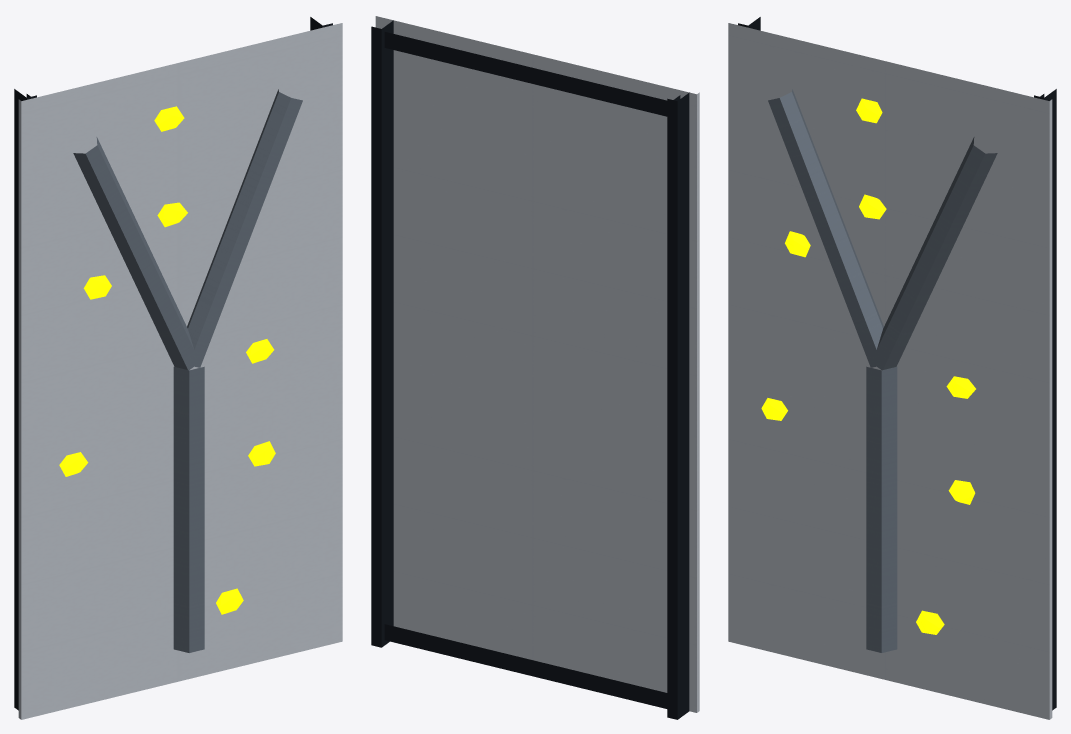
The picture shows the model from 3 angles, left to right: view 1: azimuth 30°, elevation 25°; view 2: azimuth 150°, elevation 25°; view 3: azimuth 330°, elevation 25°; orthographic projection.
Visible parts, largest first — view 1: Face_Sheet, Branch_Volume, Holds, Sub_Frame; view 2: Face_Sheet, Sub_Frame; view 3: Face_Sheet, Branch_Volume, Holds, Sub_Frame.
Boxes of the visible parts, x1,y1,x2,y2 form: Face_Sheet: (18,23,342,719); Branch_Volume: (73,89,302,652); Holds: (59,106,275,614); Sub_Frame: (14,17,332,710); Face_Sheet: (375,16,699,712); Sub_Frame: (371,20,689,719); Face_Sheet: (728,23,1052,719); Branch_Volume: (768,89,997,652); Holds: (761,98,975,634); Sub_Frame: (738,17,1056,710).
Size of what is drawn, in the model's own units: 1.25 by 2.3 by 0.1979.
4 materials, 3 textured.
